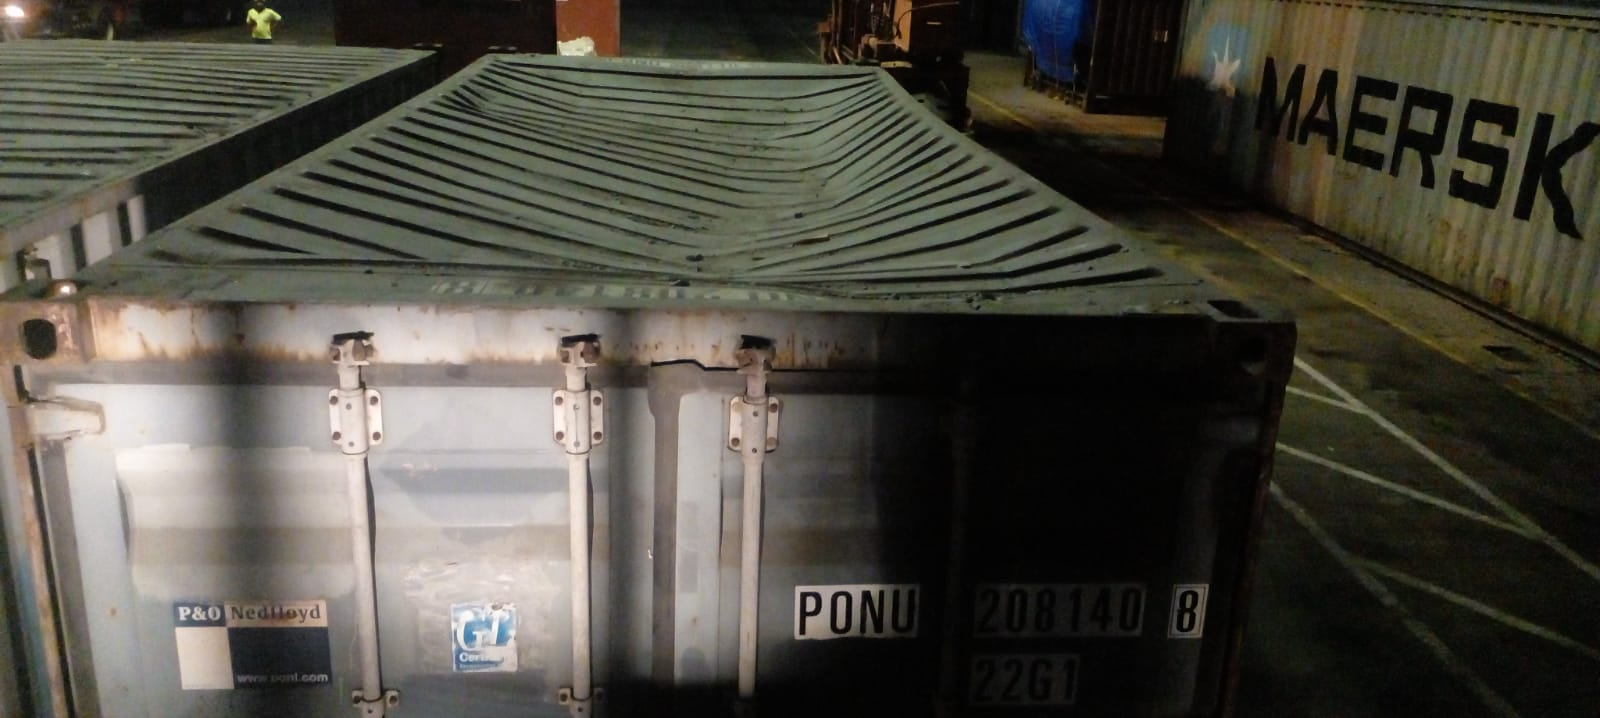dented: (500, 59, 864, 318)
